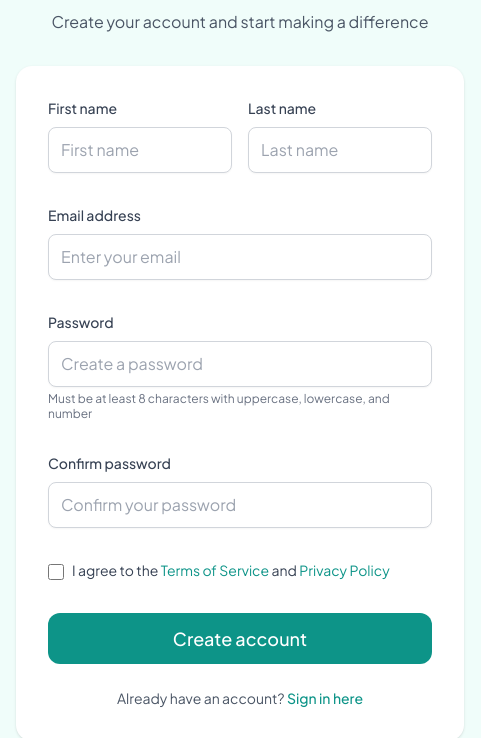
SignupPage Component › Form Validation › should clear validation errors when user starts typing
(page scrolled)
Submit the form
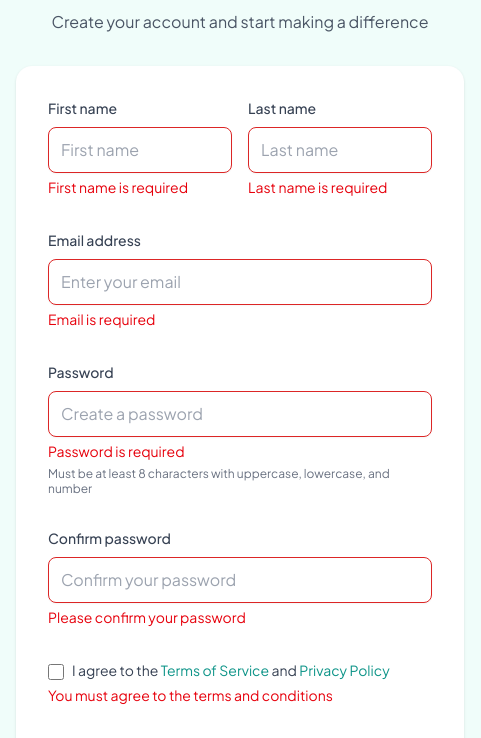
expect the text "First name is required" is shown: met, box x1=48 y1=178 x2=188 y2=196
// Start typing in first name field
Type "John" into the field labelled "First name" at (140, 150), box x1=48 y1=126 x2=232 y2=172
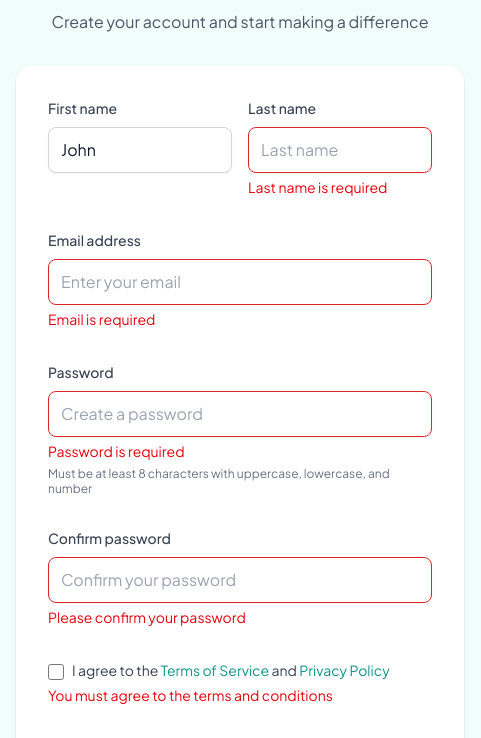
expect the text "First name is required" is gone: met
